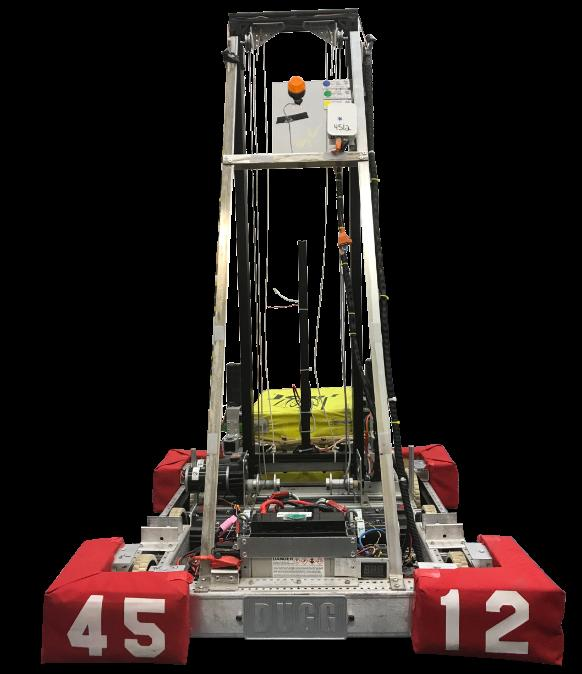robot: (39, 2, 573, 669)
